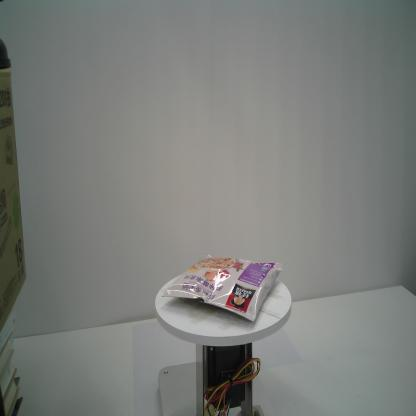Instant Drink: (162, 252, 282, 322)
